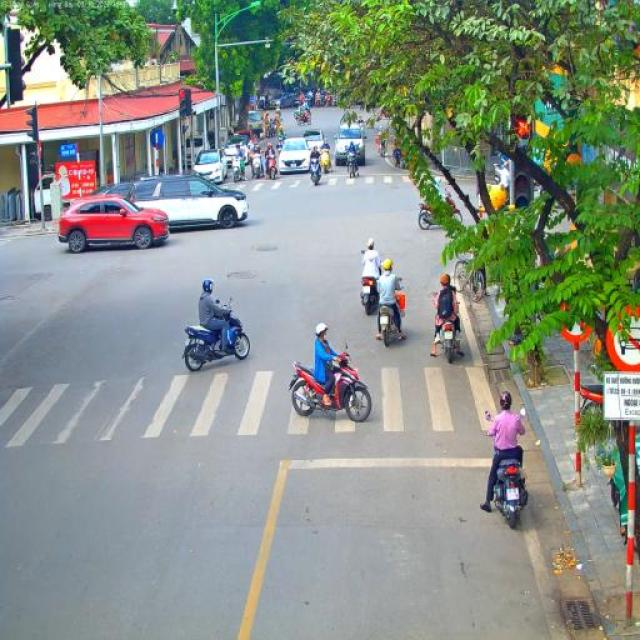car: (93, 172, 249, 232), (58, 194, 170, 254), (333, 124, 367, 167), (192, 148, 228, 188), (277, 136, 312, 176), (221, 142, 251, 172), (301, 128, 323, 156), (270, 92, 296, 108), (233, 130, 253, 148), (340, 113, 360, 129)
motorcycle: (288, 341, 373, 423), (484, 408, 530, 528), (181, 297, 251, 372), (432, 291, 463, 363), (374, 276, 404, 346), (417, 191, 463, 230), (360, 250, 385, 316), (230, 154, 246, 183), (580, 385, 602, 406), (264, 153, 280, 181), (308, 156, 322, 186), (345, 151, 360, 179), (318, 148, 332, 174), (250, 150, 262, 179), (294, 108, 312, 126), (391, 146, 404, 170), (375, 136, 385, 158), (276, 134, 286, 150), (268, 121, 277, 137), (358, 122, 368, 136), (306, 96, 314, 110), (324, 93, 332, 107), (314, 95, 321, 107), (332, 94, 338, 108), (300, 100, 306, 110)
truck: (246, 109, 264, 142)
